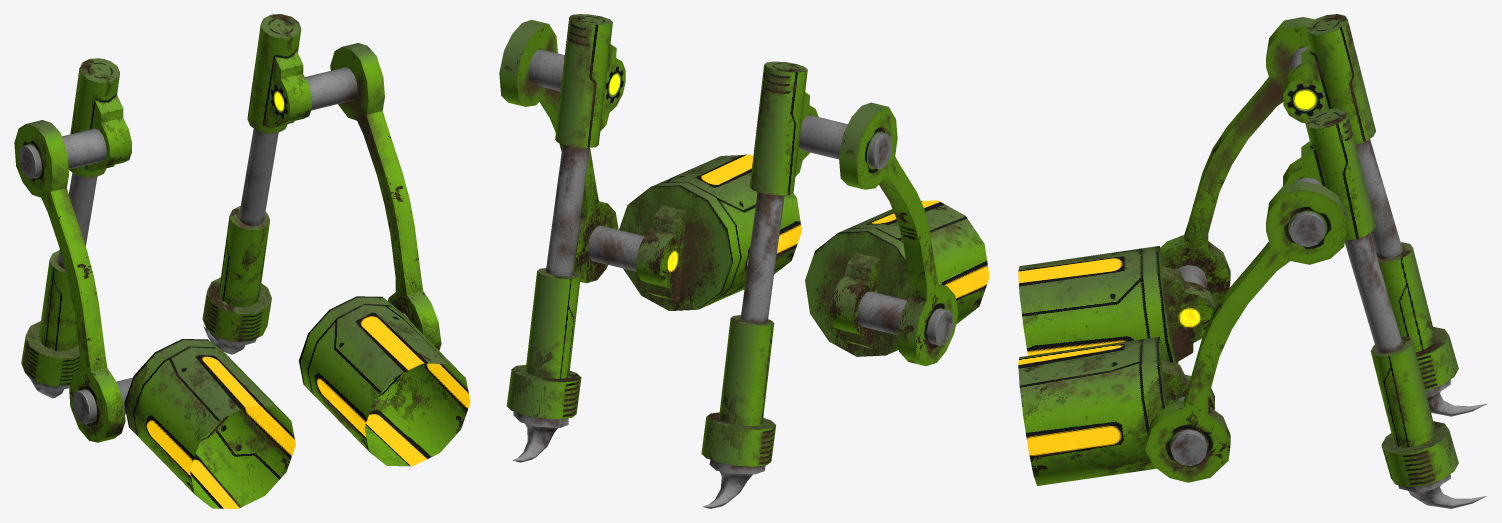
The model's file is BACK_CHIBI_ARMS.fbx.
The picture shows the model from 3 angles, left to right: view 1: azimuth 30°, elevation 25°; view 2: azimuth 150°, elevation 25°; view 3: azimuth 270°, elevation 25°; orthographic projection. The views are drawn at different scales.
Parts seen in each view (by area): view 1: BACK_CHIBI_ARMS; view 2: BACK_CHIBI_ARMS; view 3: BACK_CHIBI_ARMS.
Part boxes in pixels (<box>): BACK_CHIBI_ARMS: <box>14,14,470,508</box>; BACK_CHIBI_ARMS: <box>499,14,989,508</box>; BACK_CHIBI_ARMS: <box>1018,14,1487,508</box>.
Bounding box in the file's own units: 0.0322 × 0.0328 × 0.0353.
